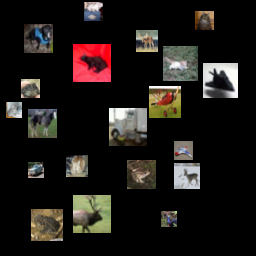airplane: (203, 63, 238, 98), (149, 86, 181, 118), (174, 141, 193, 160)
automobile: (28, 162, 44, 178)
bird: (161, 211, 177, 227)
cat: (73, 44, 111, 82), (163, 46, 198, 81), (66, 155, 88, 177), (195, 11, 214, 30), (84, 2, 103, 21), (6, 102, 22, 118)
deer: (73, 195, 111, 233), (174, 163, 200, 189), (136, 30, 158, 52)
dog: (24, 24, 53, 53)
frog: (31, 209, 63, 241), (127, 160, 156, 189), (21, 79, 40, 98)
